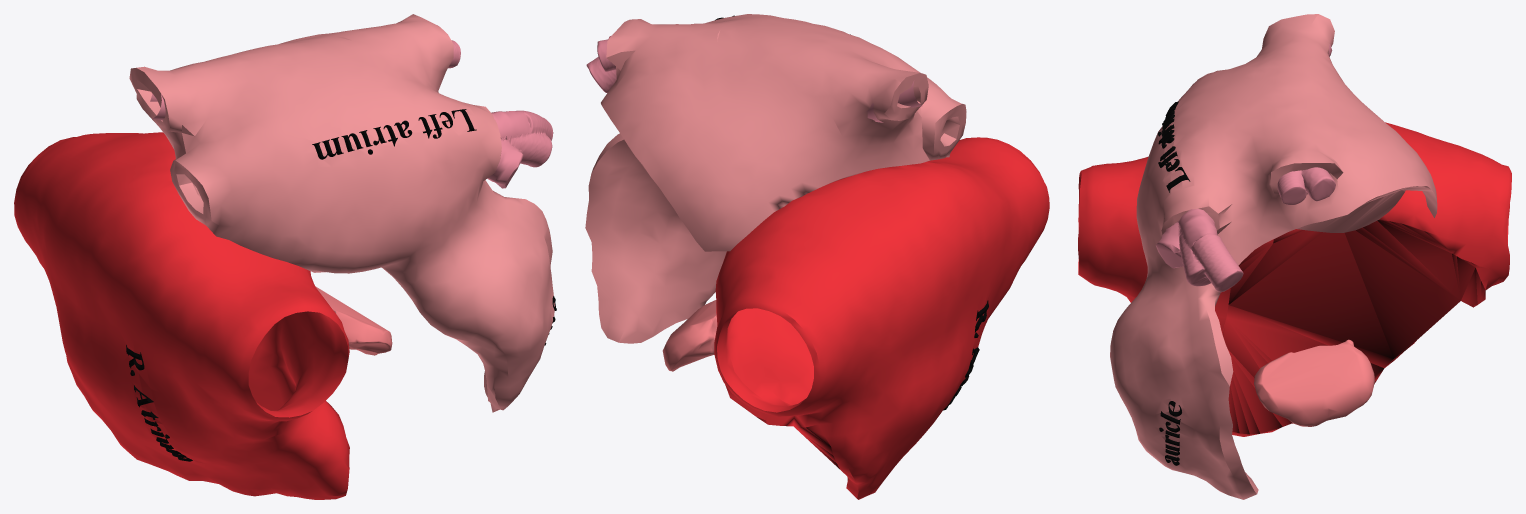
File: Atrium-model.glb
3 views of the same model, side by side, from view 1: azimuth 30°, elevation 25°; view 2: azimuth 150°, elevation 25°; view 3: azimuth 270°, elevation 25° (orthographic). The views are drawn at different scales.
Visible parts, largest first — view 1: aryanatrium (×5); view 2: aryanatrium (×4); view 3: aryanatrium (×6).
Boxes of the visible parts, <box> form: aryanatrium (×5): <box>14,14,556,499</box>; aryanatrium (×4): <box>585,14,1049,499</box>; aryanatrium (×6): <box>1078,14,1511,499</box>.
Bounding box in the file's own units: 0.1028 × 0.0983 × 0.0997.
